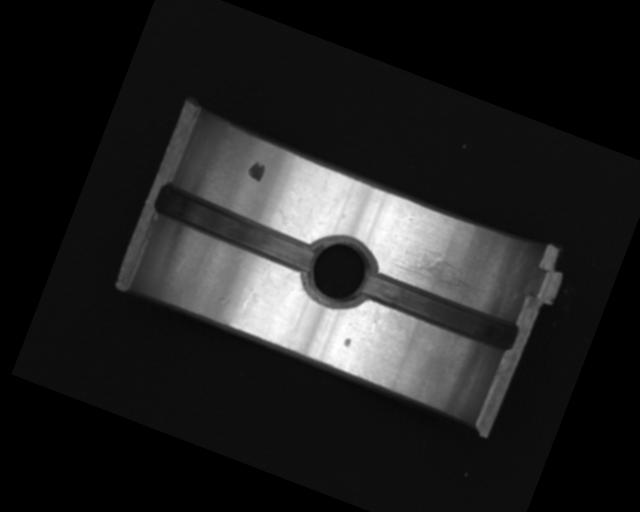blot: (245, 159, 268, 184)
bruise: (342, 336, 353, 349)
gap: (152, 182, 322, 275), (358, 267, 520, 354)
hole: (298, 227, 383, 317)
nick: (241, 255, 274, 313)
scratch: (387, 237, 492, 305)
